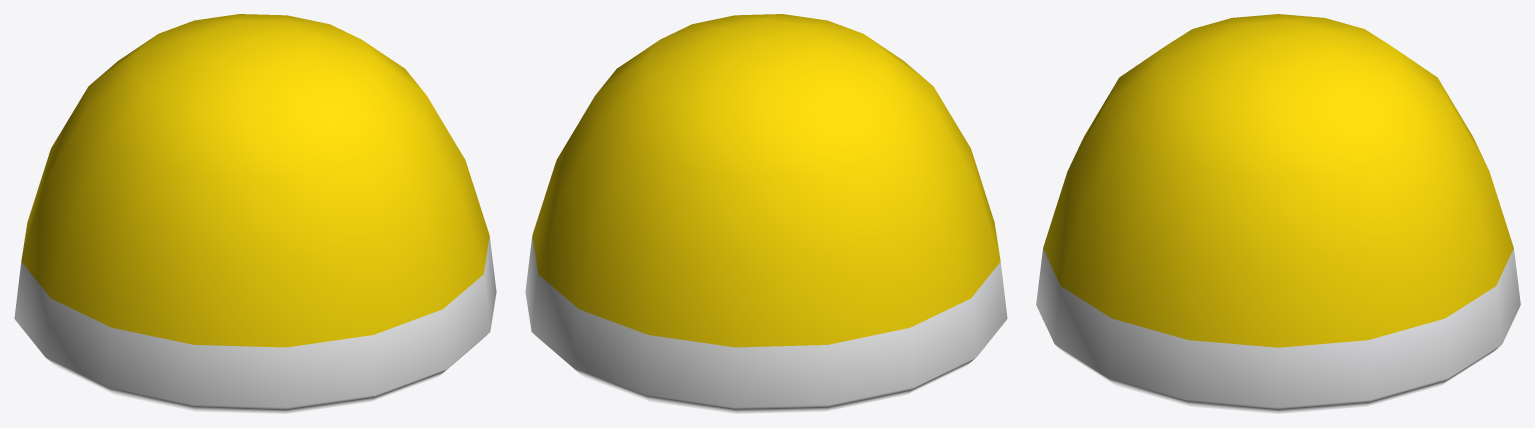
File: candy_008.glb
3 renders of one model, left to right at view 1: azimuth 30°, elevation 25°; view 2: azimuth 150°, elevation 25°; view 3: azimuth 270°, elevation 25°, orthographic.
Visible parts, largest first — view 1: candy_008; view 2: candy_008; view 3: candy_008.
Part boxes in pixels (<box>): candy_008: <box>14,14,496,413</box>; candy_008: <box>525,14,1007,413</box>; candy_008: <box>1036,14,1520,413</box>.
Size of the model in its own units: 2.04 by 1.28 by 2.04.
Materials: 1 (1 with a texture image).
